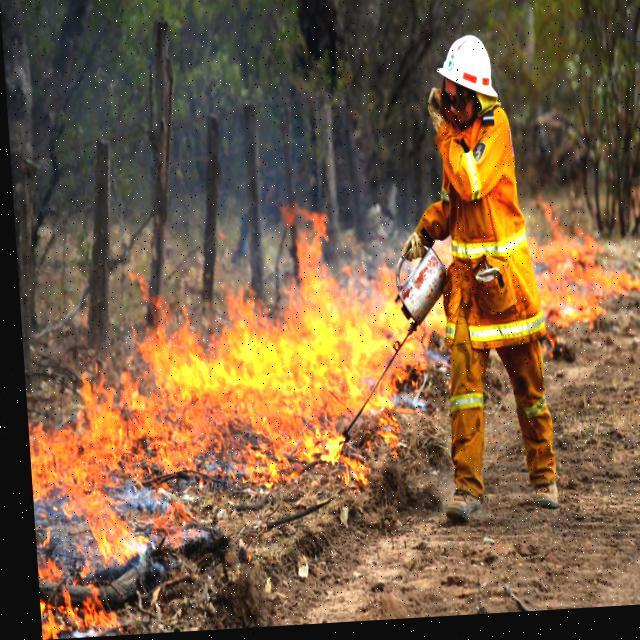Fire: (11, 196, 639, 635)
